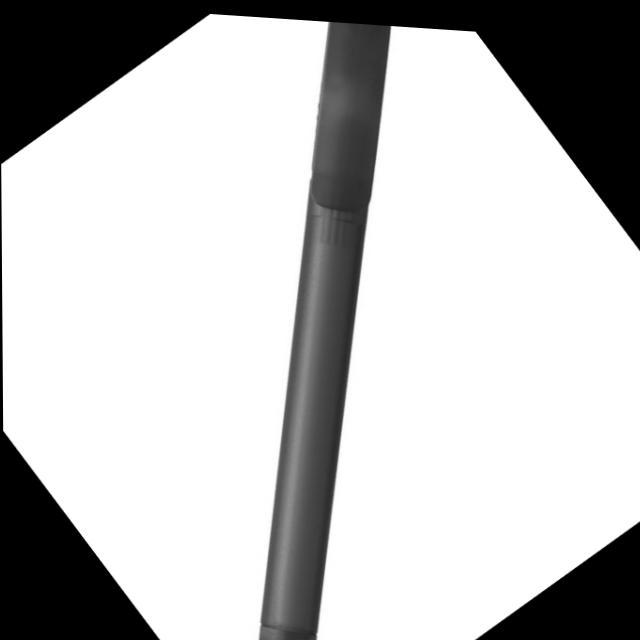pencil: (237, 8, 404, 640)
